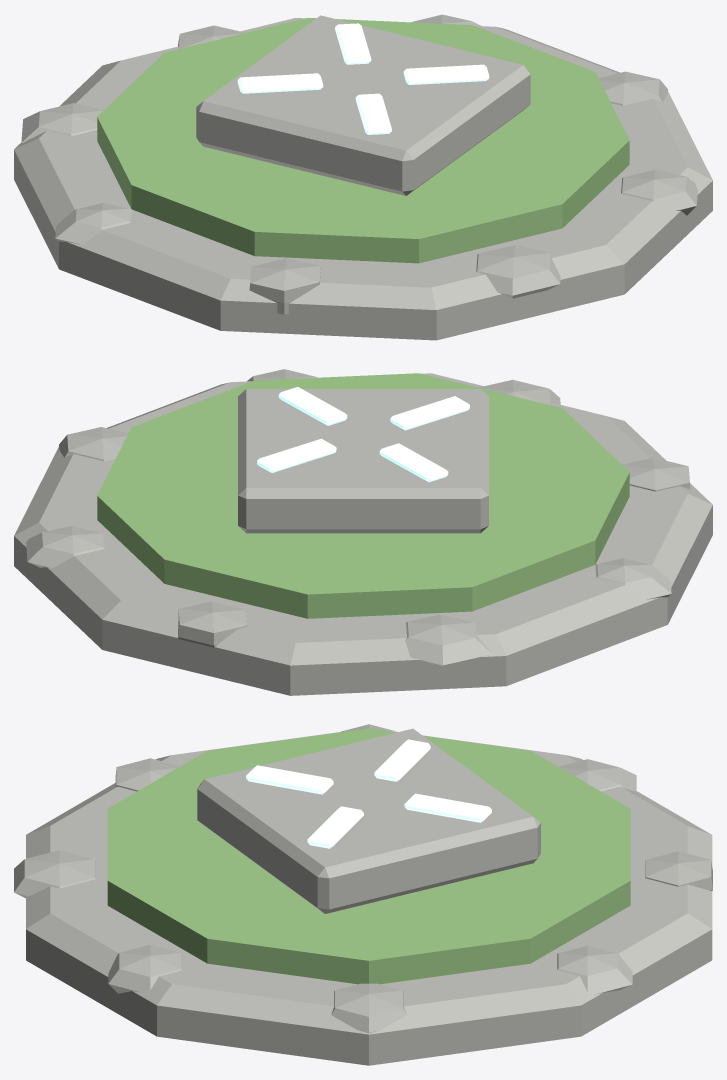
File: stone-circle-slab.glb
3 renders of one model, top to bottom at view 1: azimuth 30°, elevation 25°; view 2: azimuth 150°, elevation 25°; view 3: azimuth 270°, elevation 25°, orthographic. The views are drawn at different scales.
Parts seen in each view (by area): view 1: stone-circle-slab; view 2: stone-circle-slab; view 3: stone-circle-slab.
Boxes of the visible parts, x1=… form: stone-circle-slab: x1=14, y1=14, x2=712, y2=340; stone-circle-slab: x1=14, y1=369, x2=712, y2=695; stone-circle-slab: x1=14, y1=724, x2=712, y2=1065.
Size of the model in its own units: 4.23 by 0.79 by 4.07.
